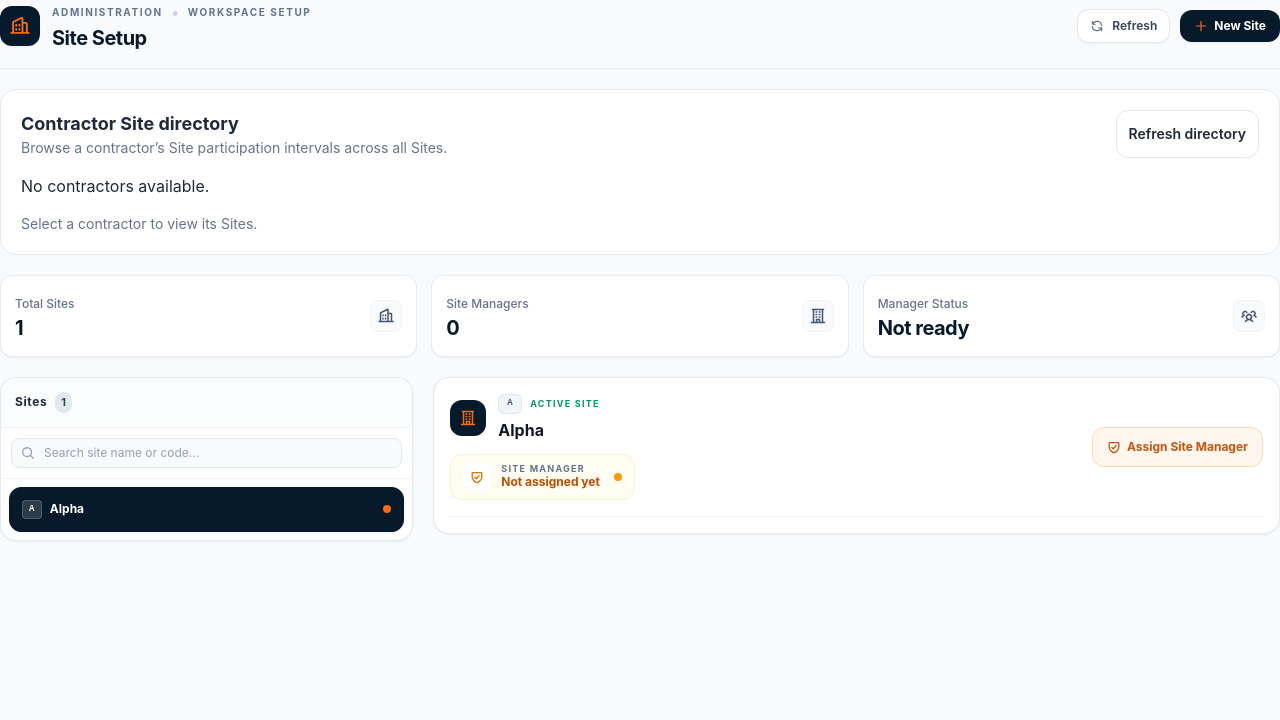
Test case: creates a manager scoped to the selected site and confirms the account is ready to sign in
Expected: the text "Not assigned yet" is shown, [501, 474, 600, 490]
Click the button "Assign Site Manager" at [1178, 447], box [1092, 427, 1263, 467]
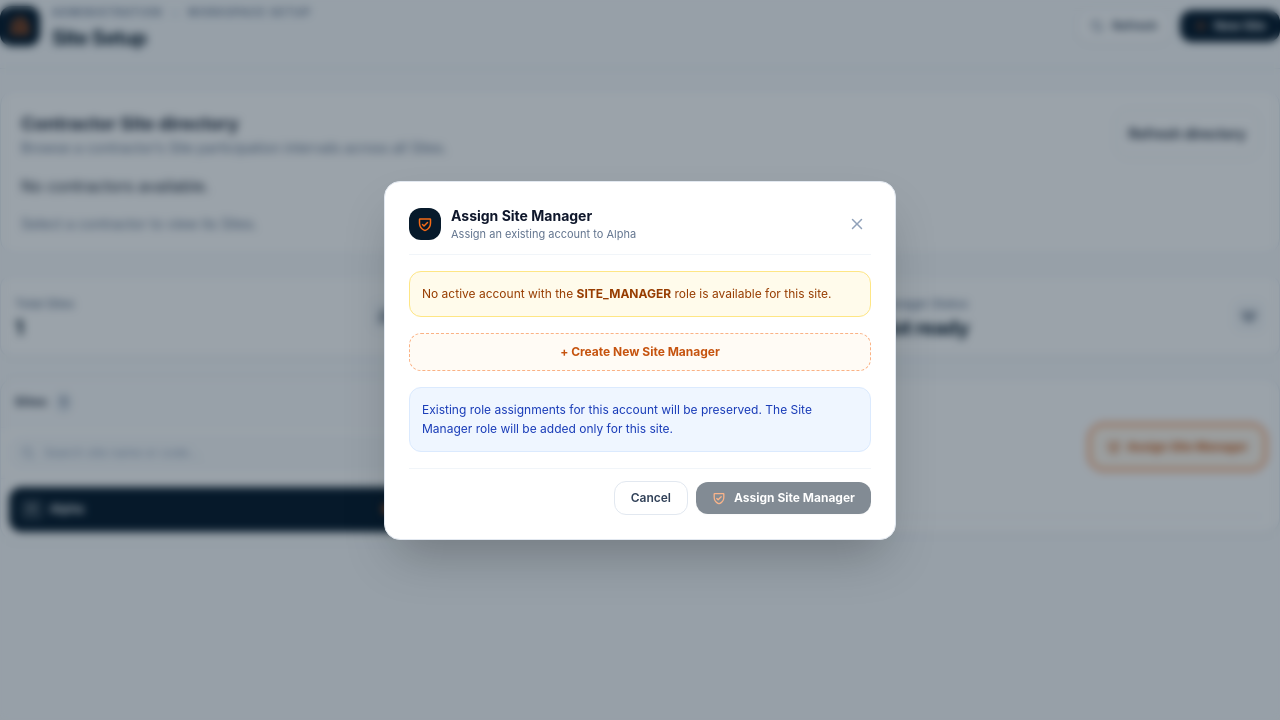
Click the button "+ Create New Site Manager" at [640, 352], box [409, 332, 871, 370]
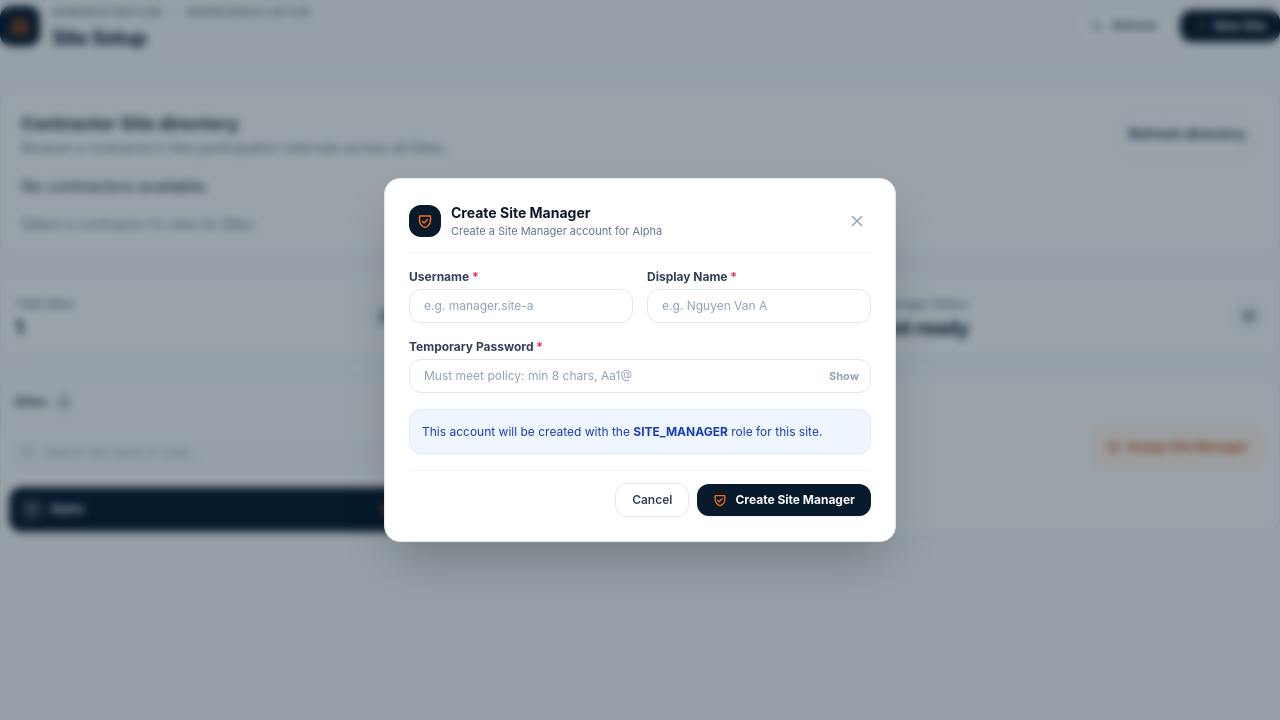
Type "new-manager" into the field labelled "Username *" at [521, 306], box [409, 288, 633, 322]
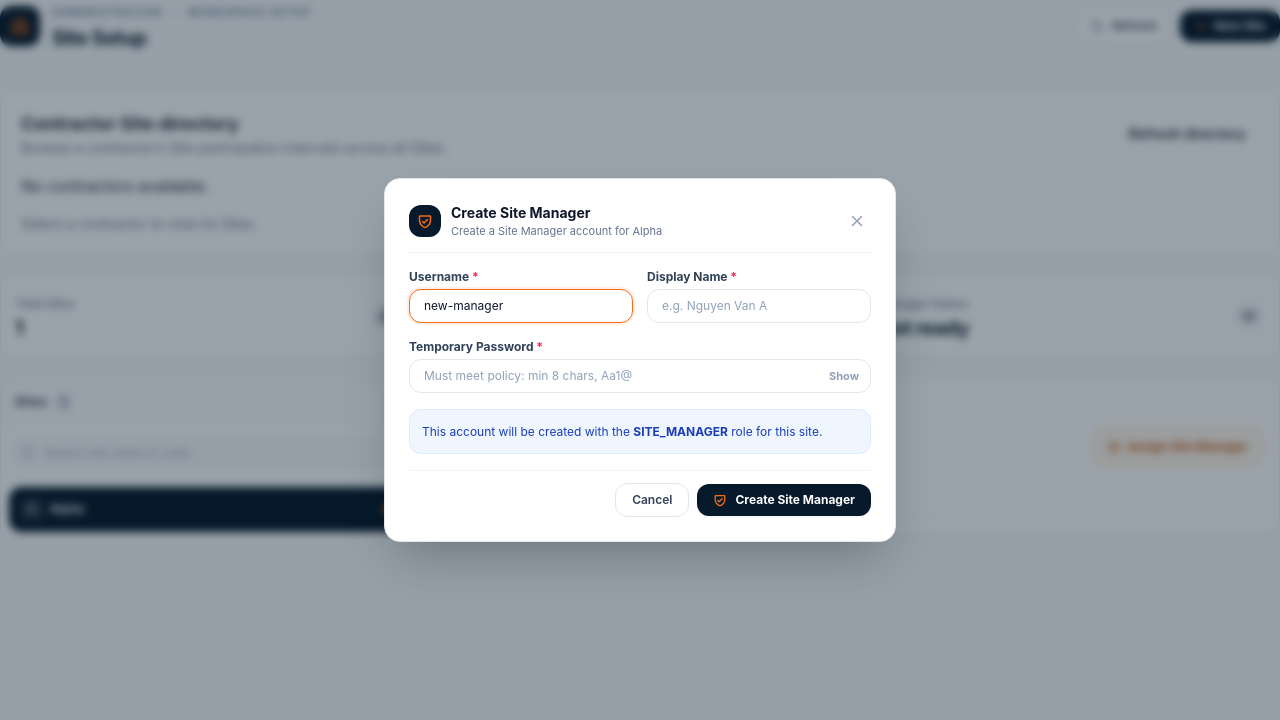
Type "New Manager" into the field labelled "Display Name *" at [759, 306], box [647, 288, 871, 322]
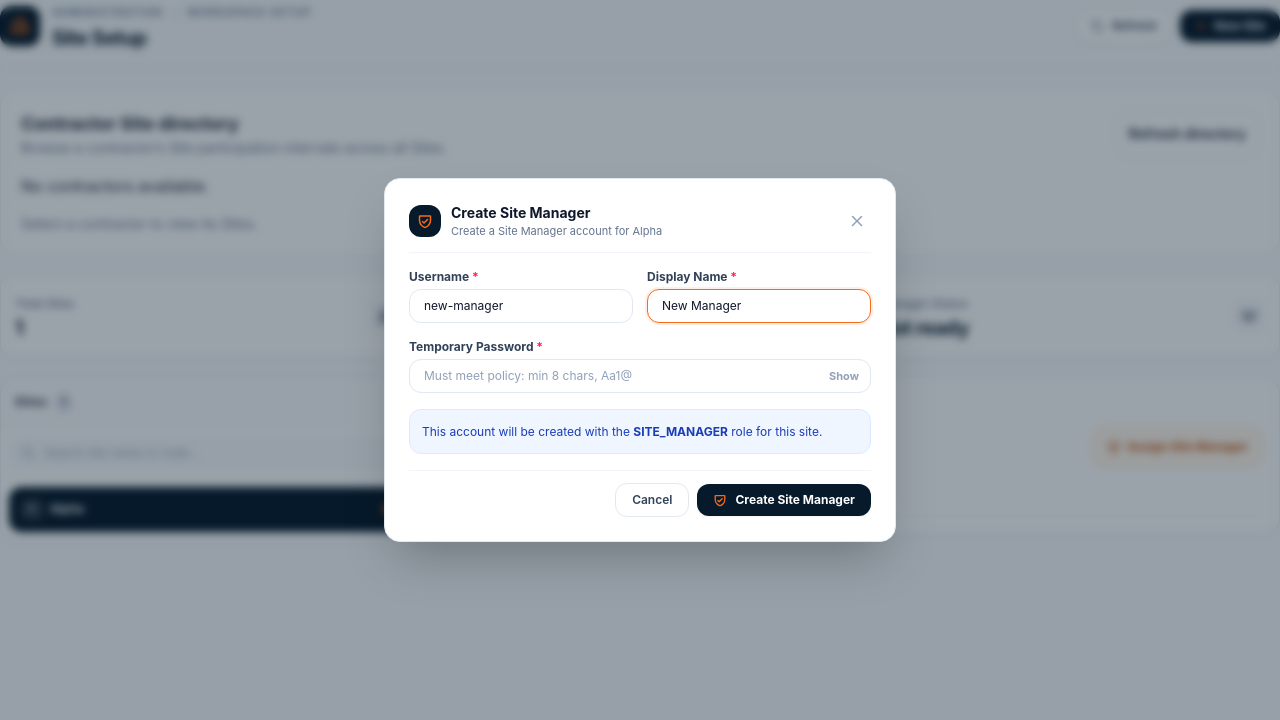
Type "TempDemo2026!" into the password field labelled "Temporary Password *" at [640, 376], box [409, 358, 871, 392]
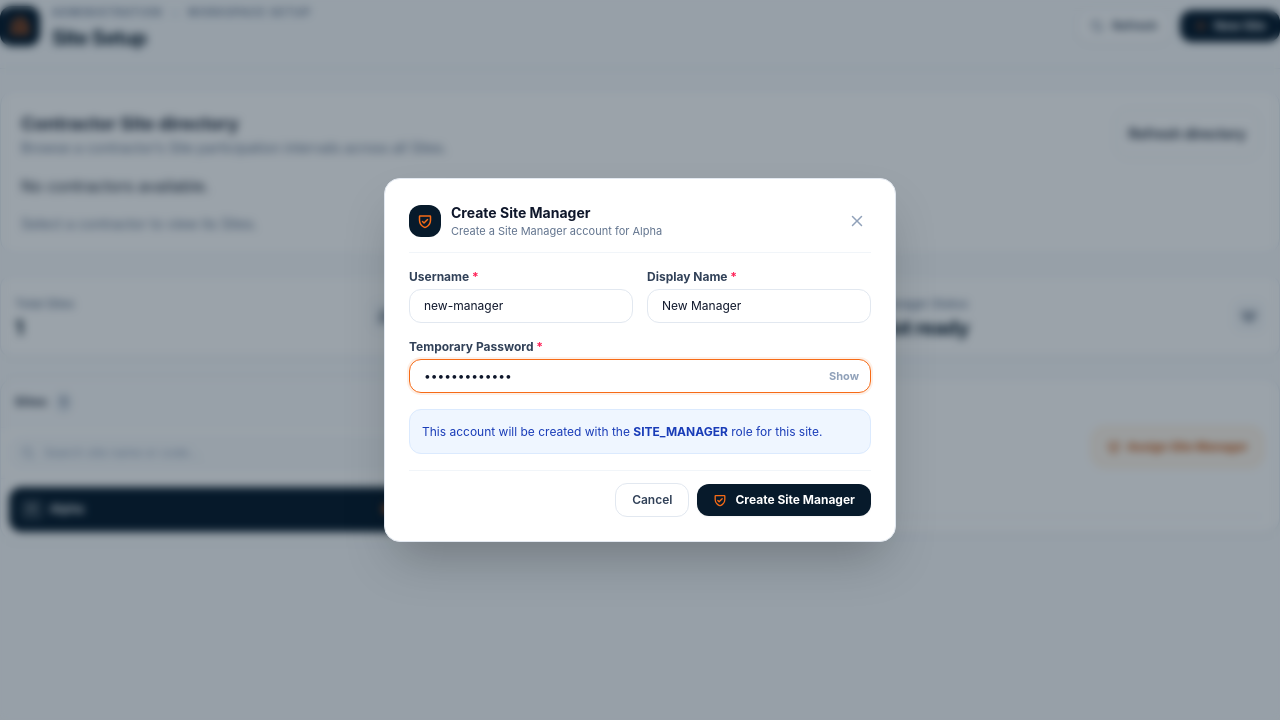
Click the button "Create Site Manager" at [784, 500], box [697, 484, 871, 516]
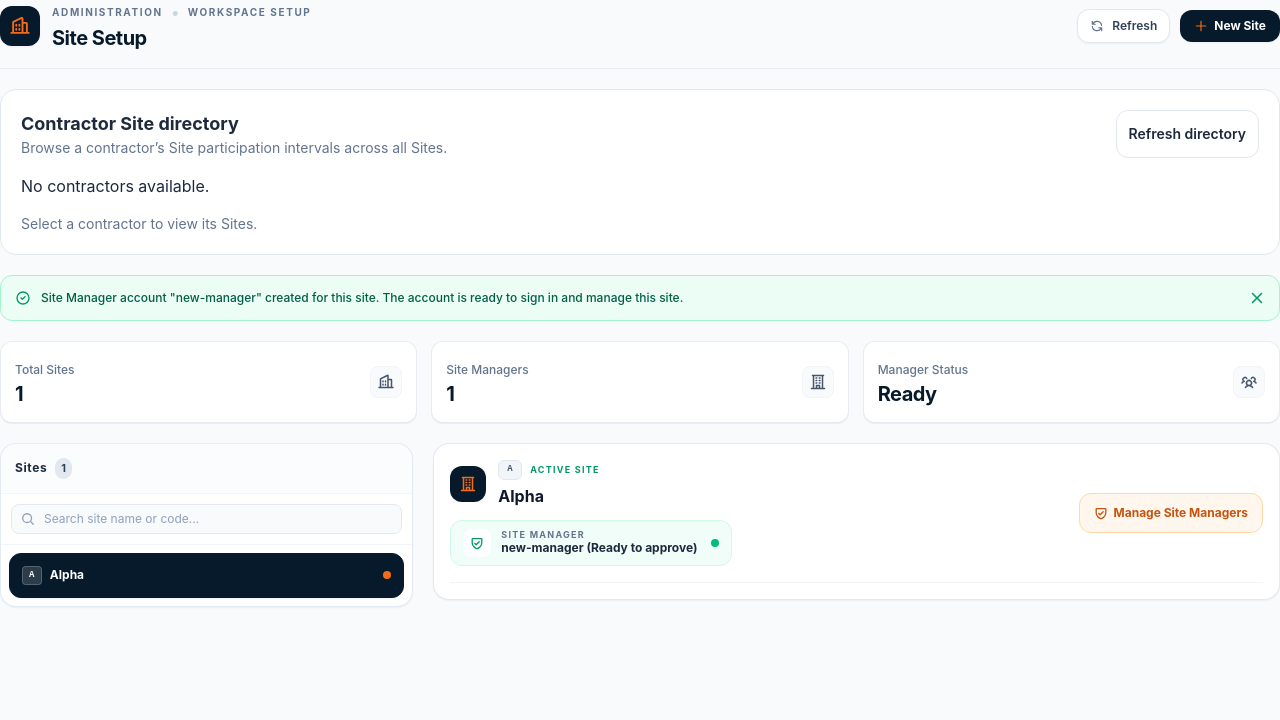
Now the text "new-manager (Ready to approve)" is shown, box [501, 540, 697, 556]
Now the text "The account is ready to sign in" is shown, box [41, 290, 683, 305]
